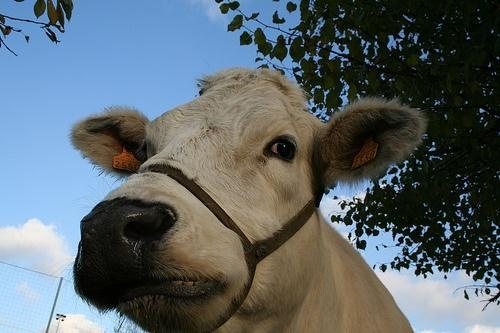cow: (73, 68, 429, 333)
